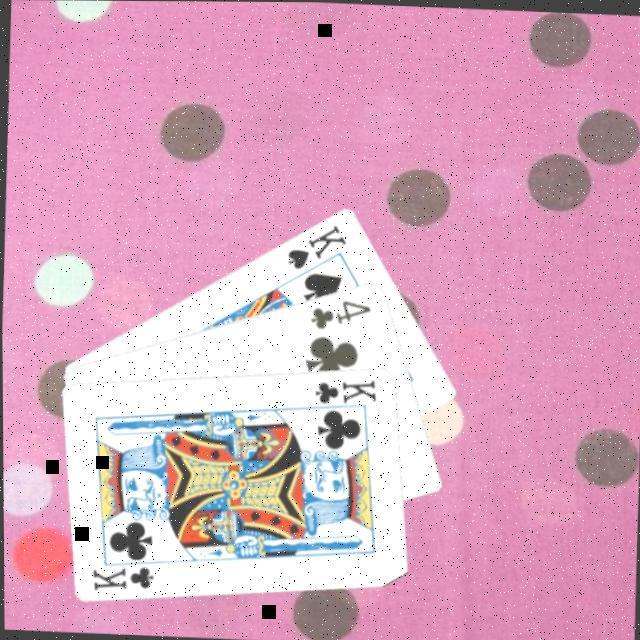4C: (306, 292, 374, 332)
KC: (304, 371, 378, 414), (87, 551, 161, 594)
KS: (280, 216, 348, 272)
